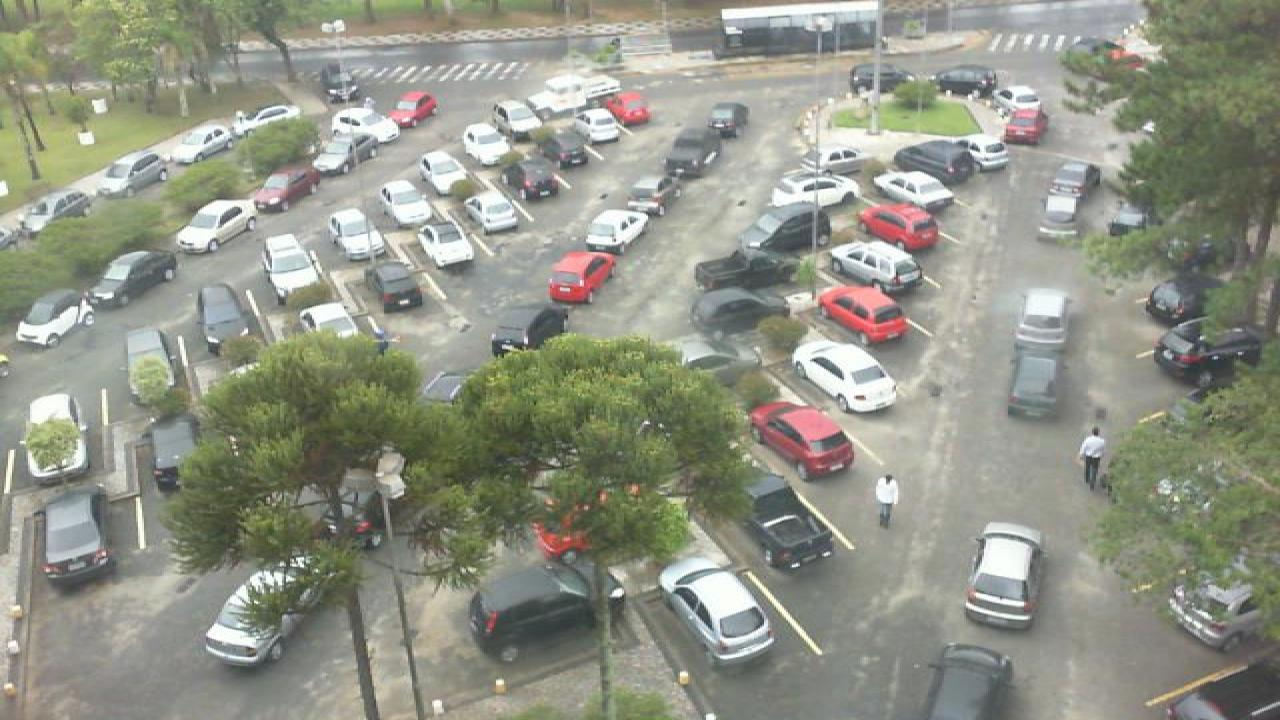Car: (466, 554, 602, 662), (656, 556, 778, 664), (200, 573, 314, 667), (738, 470, 836, 570), (960, 520, 1044, 630), (1162, 562, 1264, 652), (748, 400, 856, 482), (790, 339, 898, 416), (36, 488, 116, 586), (1148, 318, 1266, 382), (918, 642, 1014, 720), (20, 390, 92, 482), (812, 282, 912, 344), (88, 248, 180, 312), (828, 239, 928, 294), (10, 286, 96, 348), (686, 284, 784, 338), (690, 245, 798, 294), (734, 202, 828, 257), (172, 197, 262, 254), (488, 304, 574, 362), (122, 326, 180, 412), (856, 202, 944, 255), (144, 413, 202, 493), (196, 284, 258, 356), (1006, 346, 1066, 420), (1012, 284, 1072, 354), (890, 138, 978, 184), (548, 251, 620, 305), (250, 163, 326, 214), (870, 170, 958, 212), (656, 126, 722, 182), (94, 148, 170, 196), (580, 208, 652, 258), (262, 234, 324, 290), (498, 150, 564, 202), (326, 207, 386, 264), (414, 217, 476, 272), (362, 260, 424, 315), (770, 172, 862, 209), (294, 299, 362, 348), (18, 189, 92, 232), (1142, 278, 1206, 327), (1036, 185, 1090, 243), (308, 130, 372, 176), (464, 186, 524, 235), (540, 114, 596, 166), (376, 180, 436, 227), (168, 123, 240, 162), (606, 175, 674, 215), (330, 106, 400, 143), (228, 102, 302, 136), (416, 155, 474, 198), (460, 122, 514, 168), (1046, 160, 1102, 204), (934, 64, 1000, 98), (386, 90, 440, 130), (492, 98, 544, 139), (600, 91, 652, 127), (1004, 104, 1048, 144), (706, 101, 750, 141), (848, 62, 898, 96), (990, 84, 1038, 116)
